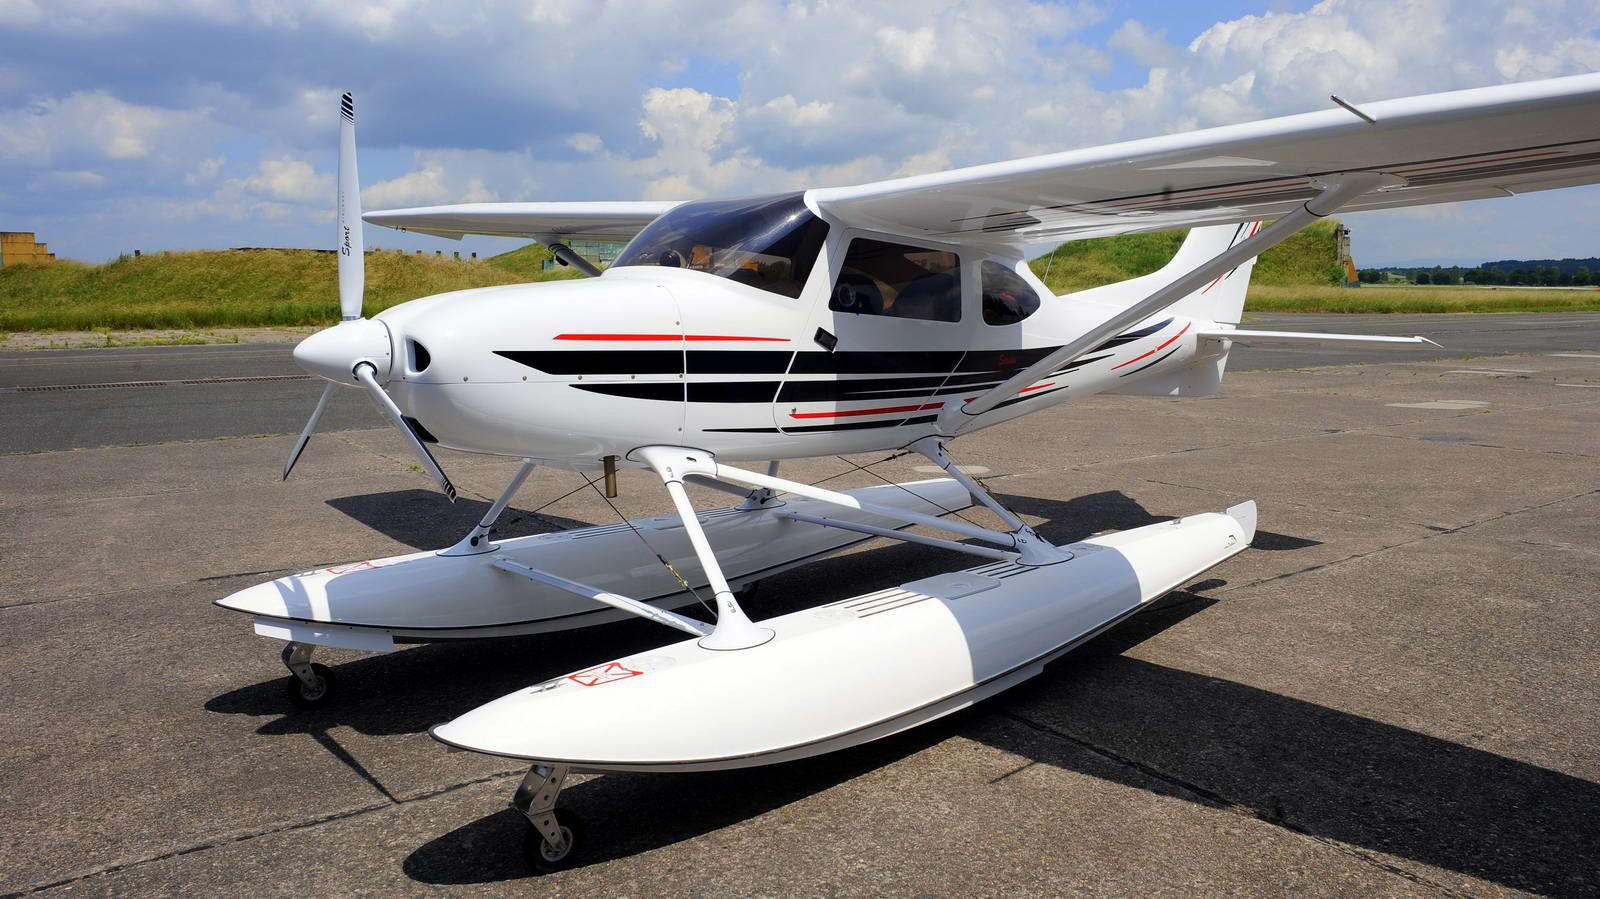Aeronef_de_loisir: (141, 65, 1600, 872)
